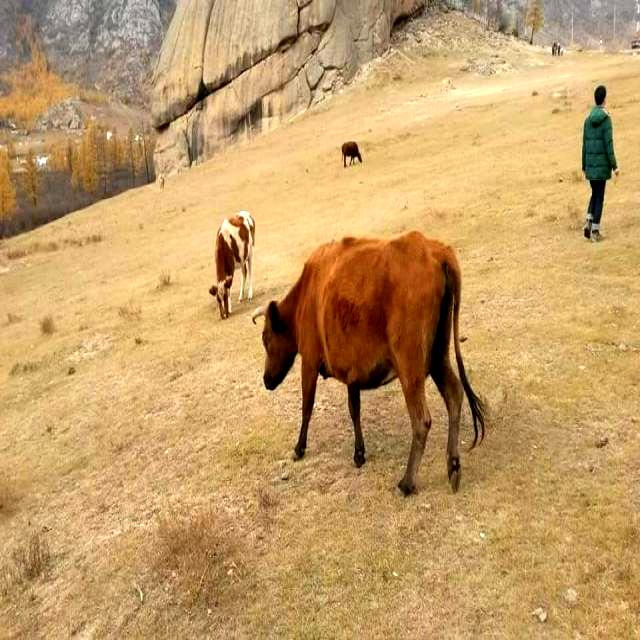COW: (256, 231, 485, 494)
